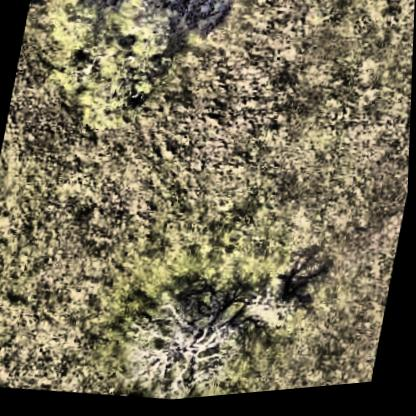tree-top: (23, 0, 207, 141), (124, 279, 254, 406), (239, 263, 312, 347)
